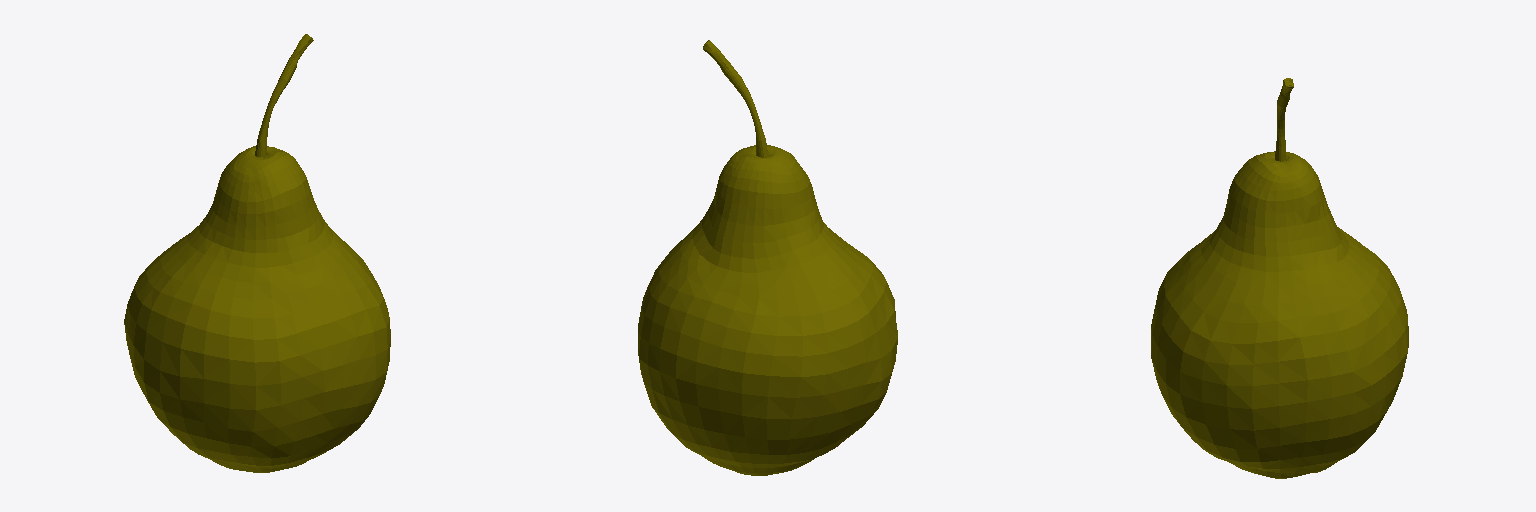
The model's file is pear.obj.
The picture shows the model from 3 angles: view 1: azimuth 30°, elevation 25°; view 2: azimuth 150°, elevation 25°; view 3: azimuth 270°, elevation 25°; orthographic projection.
Visible parts, largest first — view 1: pear.002_Cube.002; view 2: pear.002_Cube.002; view 3: pear.002_Cube.002.
Part boxes in pixels (bbox=[...]): pear.002_Cube.002: bbox=[124, 34, 390, 472]; pear.002_Cube.002: bbox=[638, 40, 897, 475]; pear.002_Cube.002: bbox=[1151, 78, 1408, 478].
Size of the model in its own units: 38.39 by 66.74 by 38.06.